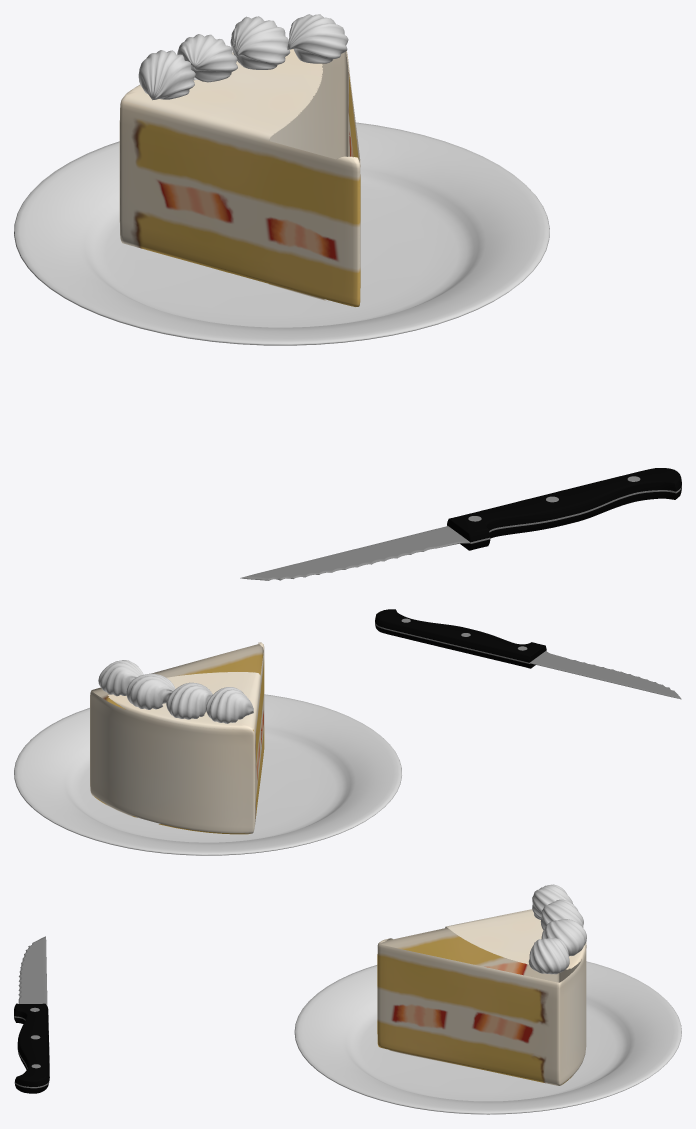
Rendered from cake&knife.fbx.
The picture shows the model from 3 angles, top to bottom: view 1: azimuth 30°, elevation 25°; view 2: azimuth 150°, elevation 25°; view 3: azimuth 270°, elevation 25°; orthographic projection. The views are drawn at different scales.
Parts seen in each view (by area): view 1: plate.001, cake, cream4.001, knife2.002, knife1.001; view 2: plate.001, cake, cream4.001, knife2.002, knife1.001; view 3: cake, plate.001, cream4.001, knife2.002, knife1.001.
Part boxes in pixels (bbox=[...]): plate.001: bbox=[14, 122, 549, 345]; cake: bbox=[119, 49, 360, 306]; cream4.001: bbox=[138, 14, 348, 100]; knife2.002: bbox=[447, 468, 681, 550]; knife1.001: bbox=[240, 526, 469, 580]; plate.001: bbox=[14, 694, 401, 855]; cake: bbox=[90, 642, 264, 834]; cream4.001: bbox=[98, 660, 253, 723]; knife2.002: bbox=[375, 609, 546, 668]; knife1.001: bbox=[530, 651, 681, 699]; cake: bbox=[377, 909, 586, 1085]; plate.001: bbox=[294, 961, 681, 1114]; cream4.001: bbox=[528, 884, 586, 974]; knife2.002: bbox=[14, 1003, 49, 1093]; knife1.001: bbox=[18, 936, 47, 1006].
Bounding box in the file's own units: 0.6955 × 0.2443 × 0.9591.
